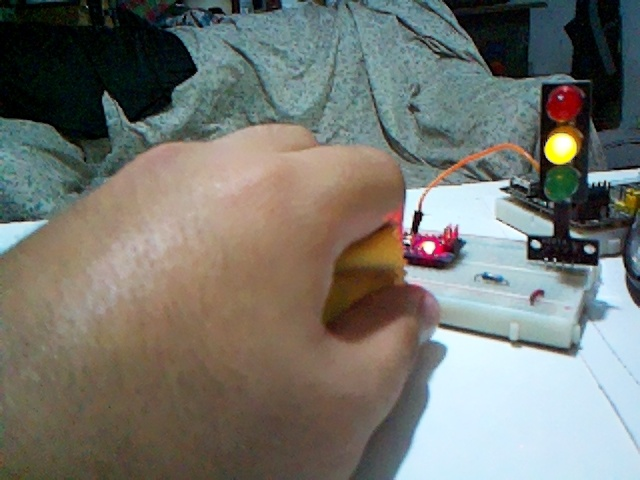traffic_light_yellow: (539, 80, 590, 203)
